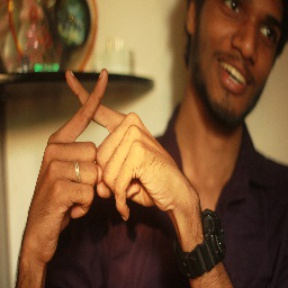X: (41, 59, 141, 162)
